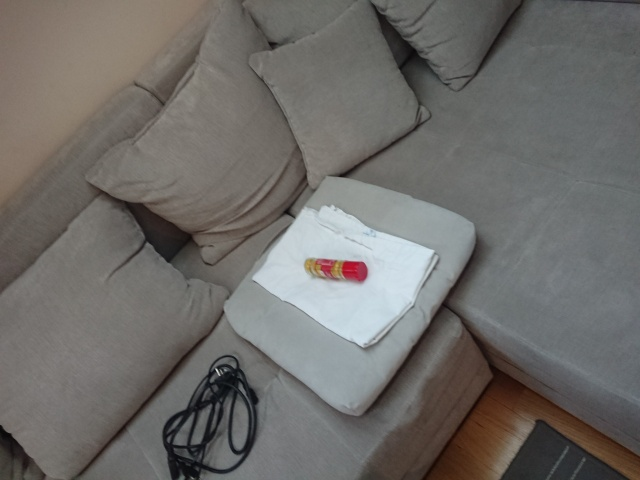Kotanyi Curry Spices Mix 70g: (303, 256, 369, 283)
